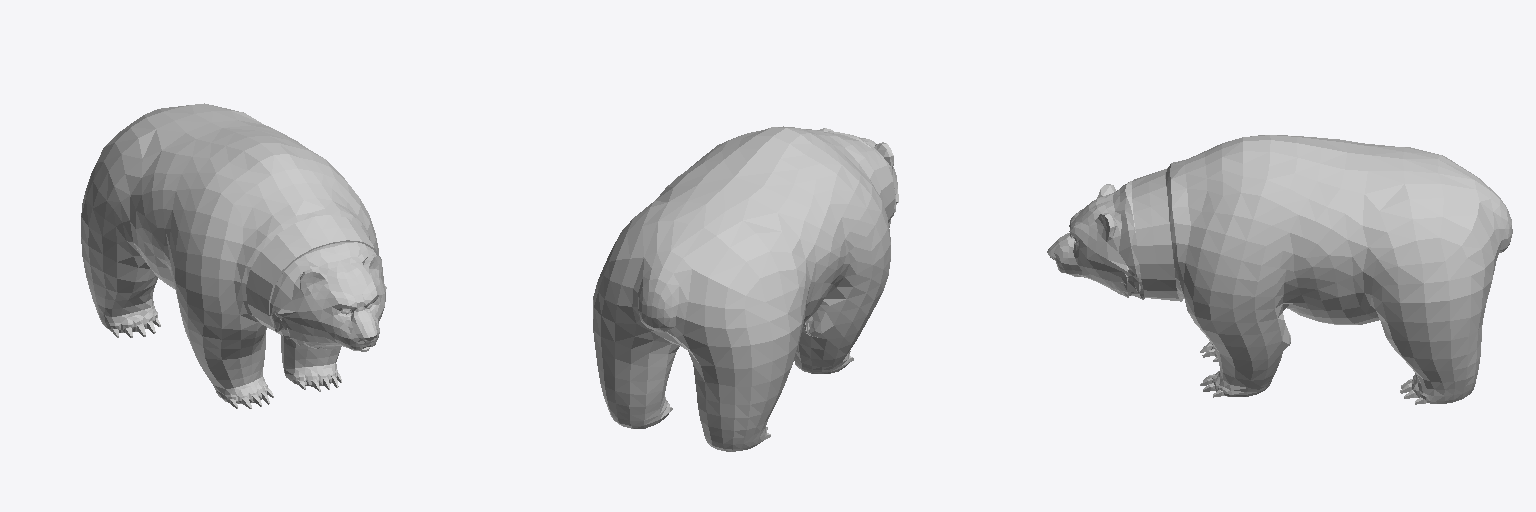
Rendered from bear.obj.
The picture shows the model from 3 angles: view 1: azimuth 30°, elevation 25°; view 2: azimuth 150°, elevation 25°; view 3: azimuth 270°, elevation 25°; orthographic projection.
Parts seen in each view (by area): view 1: Object; view 2: Object; view 3: Object.
Part boxes in pixels (bbox=[...]): Object: bbox=[81, 103, 386, 408]; Object: bbox=[593, 126, 898, 451]; Object: bbox=[1047, 135, 1512, 404].
Size of the model in its own units: 2.61 by 3.05 by 5.54.